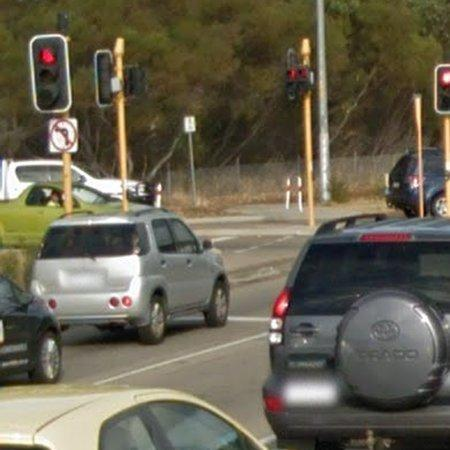traffic lights: (31, 32, 69, 114), (100, 32, 129, 121)
